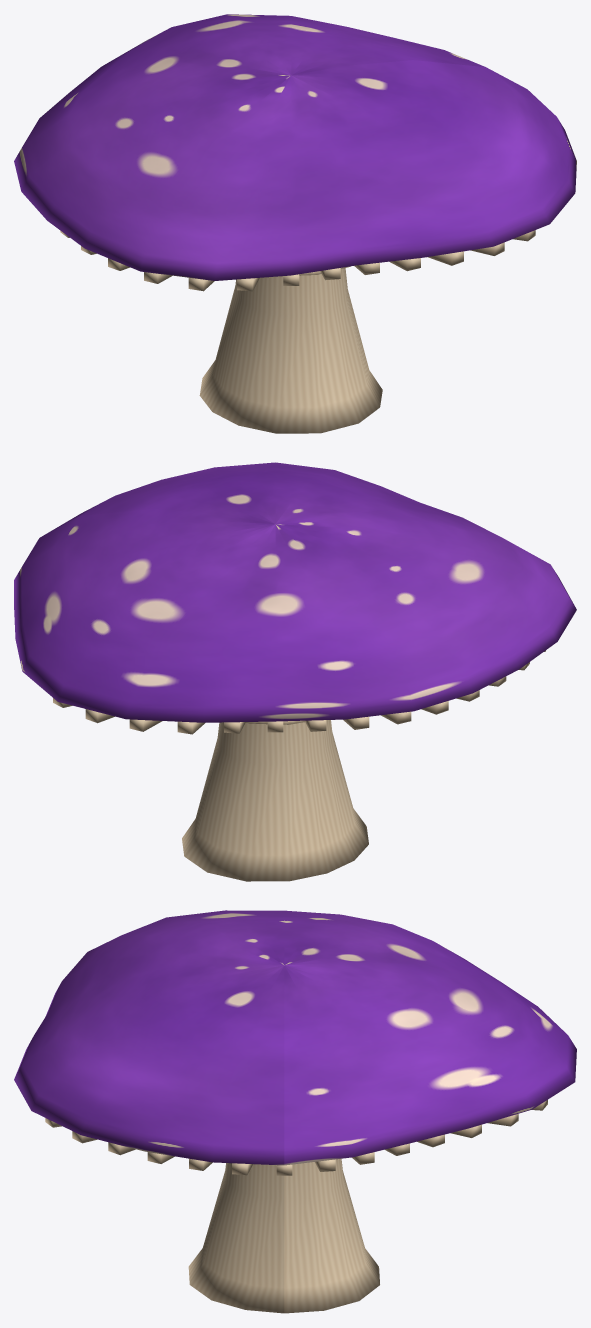
Rendered from mushroom_violet_squat.glb.
The picture shows the model from 3 angles, top to bottom: view 1: azimuth 30°, elevation 25°; view 2: azimuth 150°, elevation 25°; view 3: azimuth 270°, elevation 25°; orthographic projection. The views are drawn at different scales.
Parts seen in each view (by area): view 1: mushroom_violet_squat__cap, mushroom_violet_squat__stem; view 2: mushroom_violet_squat__cap, mushroom_violet_squat__stem; view 3: mushroom_violet_squat__cap, mushroom_violet_squat__stem.
Boxes of the visible parts, x1,y1,x2,y2 form: mushroom_violet_squat__cap: (14,14,576,280); mushroom_violet_squat__stem: (60,230,535,433); mushroom_violet_squat__cap: (14,462,576,722); mushroom_violet_squat__stem: (53,650,545,881); mushroom_violet_squat__cap: (14,910,576,1165); mushroom_violet_squat__stem: (45,1100,547,1313).
Size of the model in its own units: 1.24 by 0.7713 by 1.27.
Materials: 2 (2 with a texture image).
